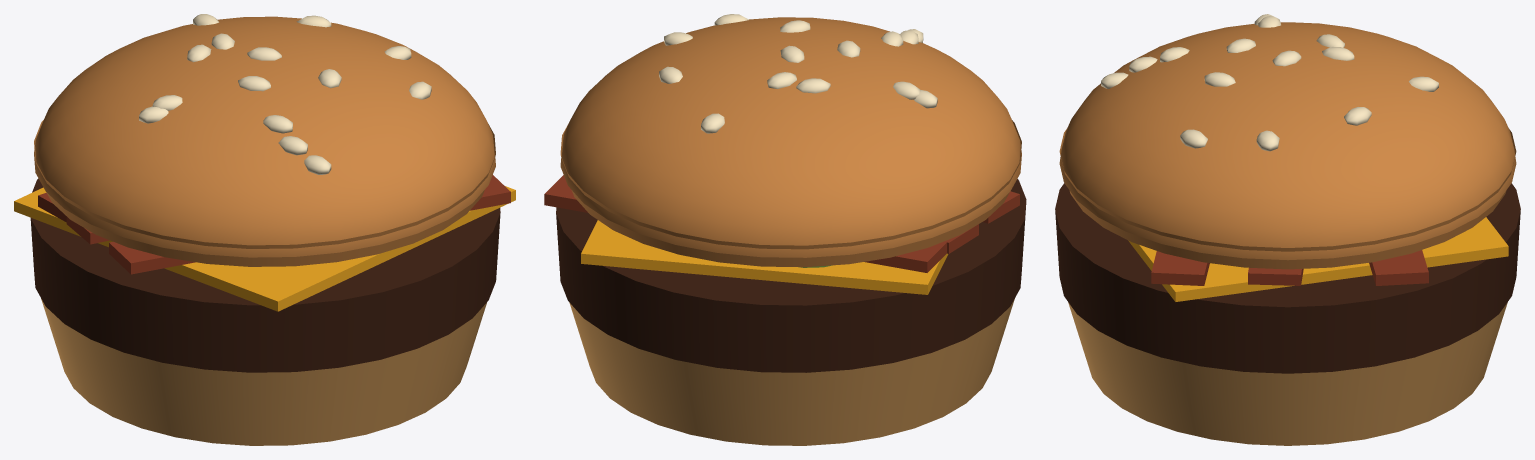
Rendered from burger-res-pepinillo.glb.
3 renders of one model, left to right at view 1: azimuth 30°, elevation 25°; view 2: azimuth 150°, elevation 25°; view 3: azimuth 270°, elevation 25°, orthographic.
Bounding box in the file's own units: 0.1616 × 0.118 × 0.1616.
